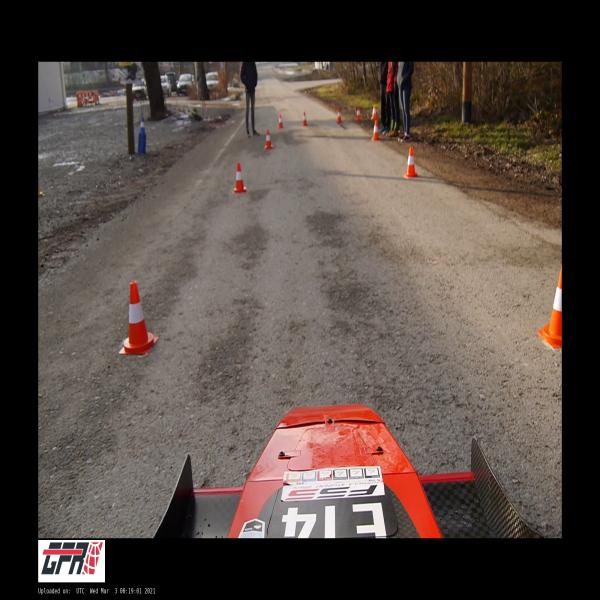blue_cone: (140, 118, 145, 134)
orange_cone: (119, 281, 158, 355), (538, 264, 562, 350), (404, 147, 418, 178), (233, 163, 247, 192), (264, 130, 273, 149), (372, 120, 380, 140), (371, 106, 378, 120), (302, 112, 308, 126), (278, 115, 284, 128), (336, 109, 342, 122), (356, 107, 361, 121)
